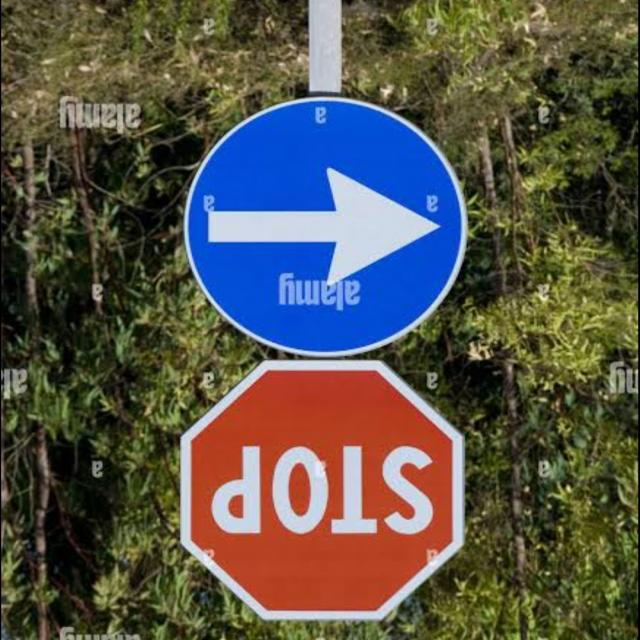Turn Right: (176, 89, 477, 354)
